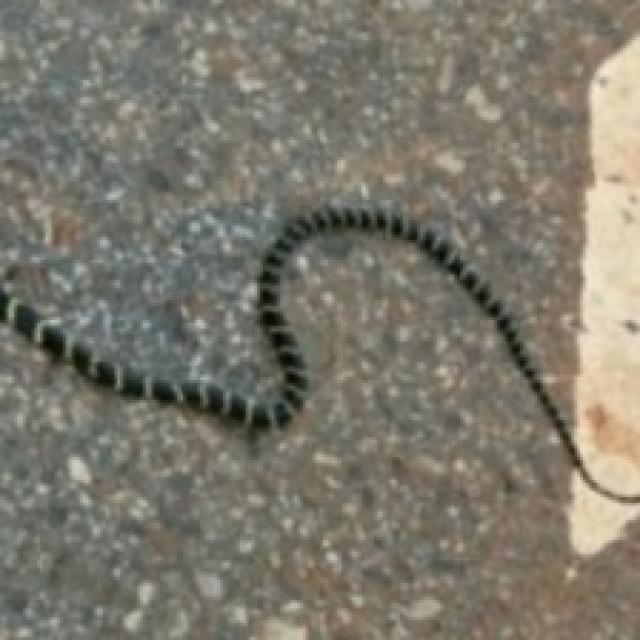king cobra: (0, 206, 637, 503)
